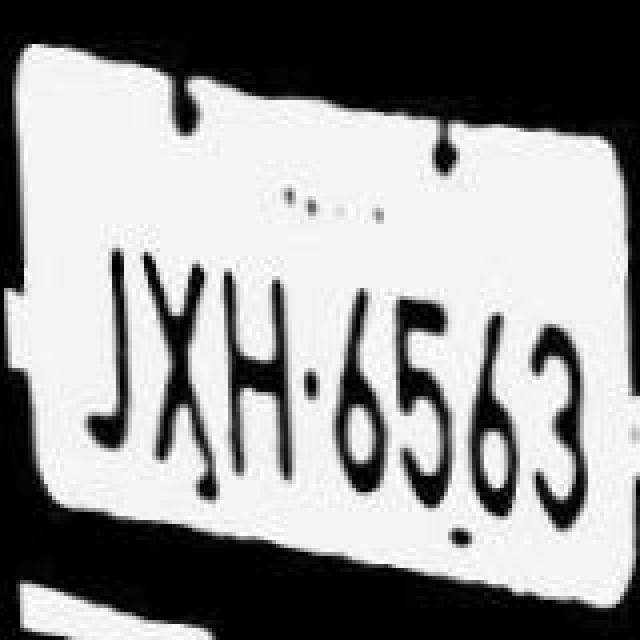3: (518, 288, 602, 552)
5: (384, 258, 460, 518)
6: (456, 278, 532, 526), (318, 256, 390, 516)
H: (214, 230, 302, 486)
J: (62, 196, 138, 460)
X: (134, 230, 218, 462)
